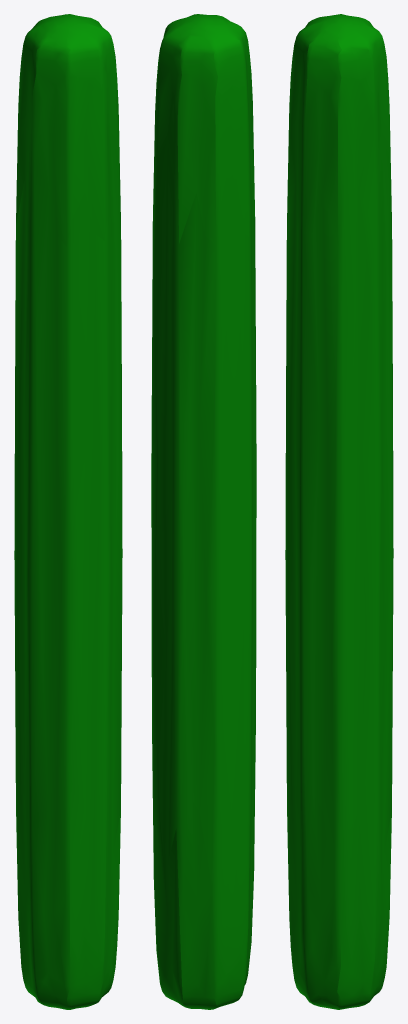
File: cactus4.fbx
The picture shows the model from 3 angles, left to right: view 1: azimuth 90°, elevation 25°; view 2: azimuth 150°, elevation 25°; view 3: azimuth 270°, elevation 25°; orthographic projection.
Visible parts, largest first — view 1: Cactus_lowpoly:Mesh; view 2: Cactus_lowpoly:Mesh; view 3: Cactus_lowpoly:Mesh.
Boxes of the visible parts, x1=… form: Cactus_lowpoly:Mesh: x1=14, y1=14, x2=122, y2=1009; Cactus_lowpoly:Mesh: x1=151, y1=14, x2=256, y2=1009; Cactus_lowpoly:Mesh: x1=285, y1=14, x2=393, y2=1009.
Bounding box in the file's own units: 4.75 × 47.79 × 4.75.
